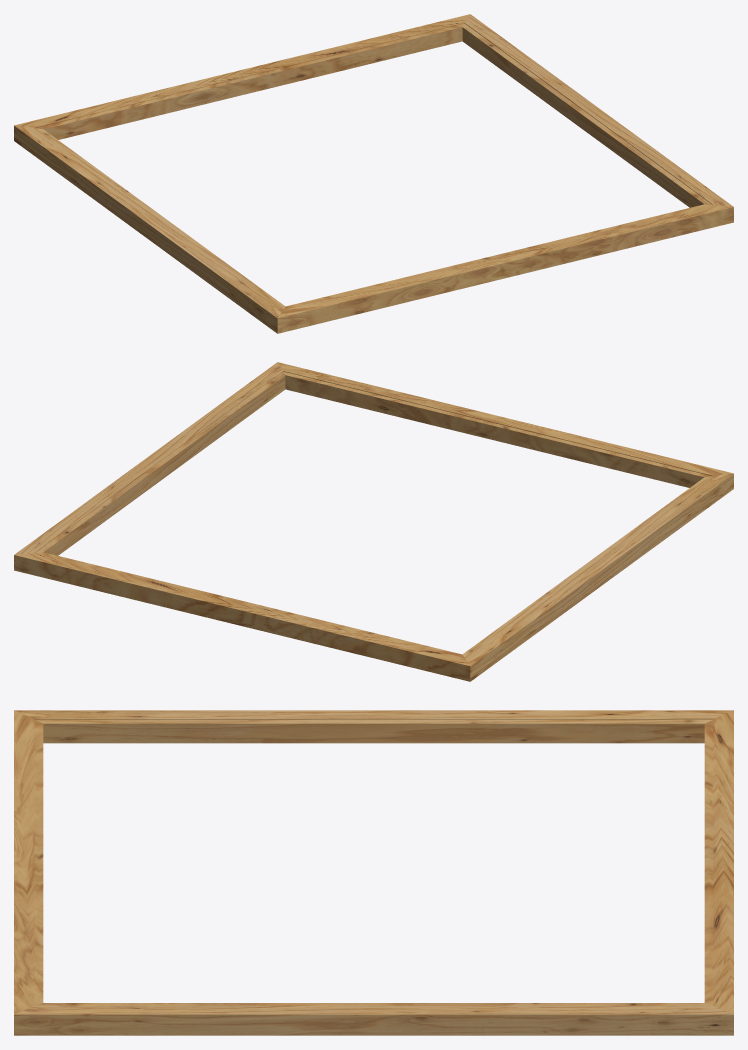
File: Raam100x100.dae
3 views of the same model, one above another, from view 1: azimuth 30°, elevation 25°; view 2: azimuth 150°, elevation 25°; view 3: azimuth 270°, elevation 25° (orthographic). The views are drawn at different scales.
Parts seen in each view (by area): view 1: Raam_geo; view 2: Raam_geo; view 3: Raam_geo.
Boxes of the visible parts, x1,y1,x2,y2 form: Raam_geo: (14,14,733,333); Raam_geo: (14,362,733,681); Raam_geo: (14,710,733,1035).
Bounding box in the file's own units: 100 × 3.25 × 100.
1 material, 1 textured.
